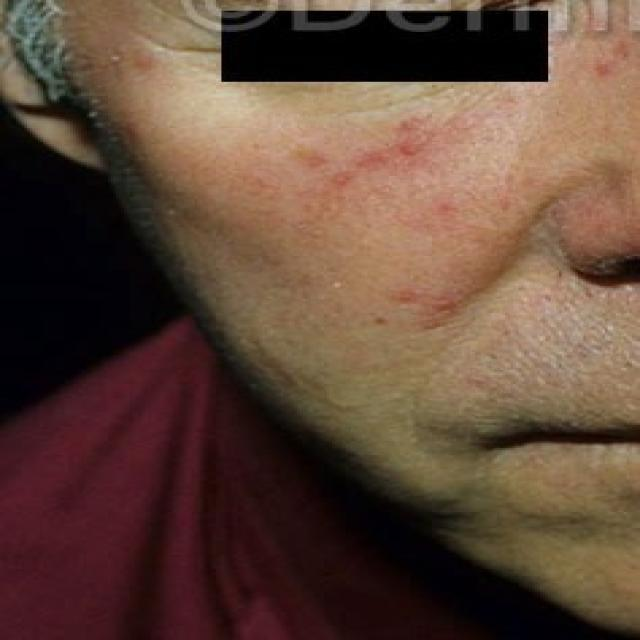Rosacea: (251, 109, 465, 328), (586, 34, 634, 84)
